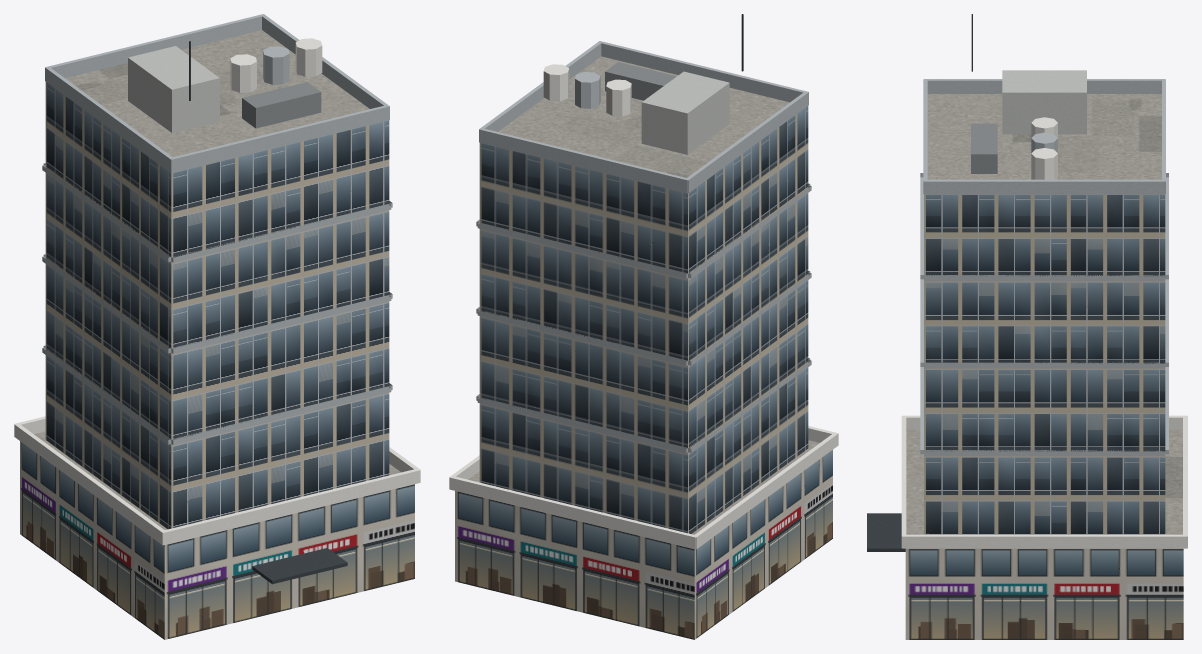
Rendered from OW_CaoOc_TT_VanPhong_40.fbx.
3 views of the same model, side by side, from view 1: azimuth 30°, elevation 25°; view 2: azimuth 150°, elevation 25°; view 3: azimuth 270°, elevation 25° (orthographic). The views are drawn at different scales.
Visible parts, largest first — view 1: OW_CaoOc_TT_VanPhong_40_LOD0; view 2: OW_CaoOc_TT_VanPhong_40_LOD0; view 3: OW_CaoOc_TT_VanPhong_40_LOD0.
Boxes of the visible parts, x1=… form: OW_CaoOc_TT_VanPhong_40_LOD0: x1=14, y1=14, x2=420, y2=639; OW_CaoOc_TT_VanPhong_40_LOD0: x1=449, y1=14, x2=838, y2=639; OW_CaoOc_TT_VanPhong_40_LOD0: x1=867, y1=14, x2=1187, y2=639.
Size of what is drawn, in the model's own units: 23.7 by 49 by 26.55.
